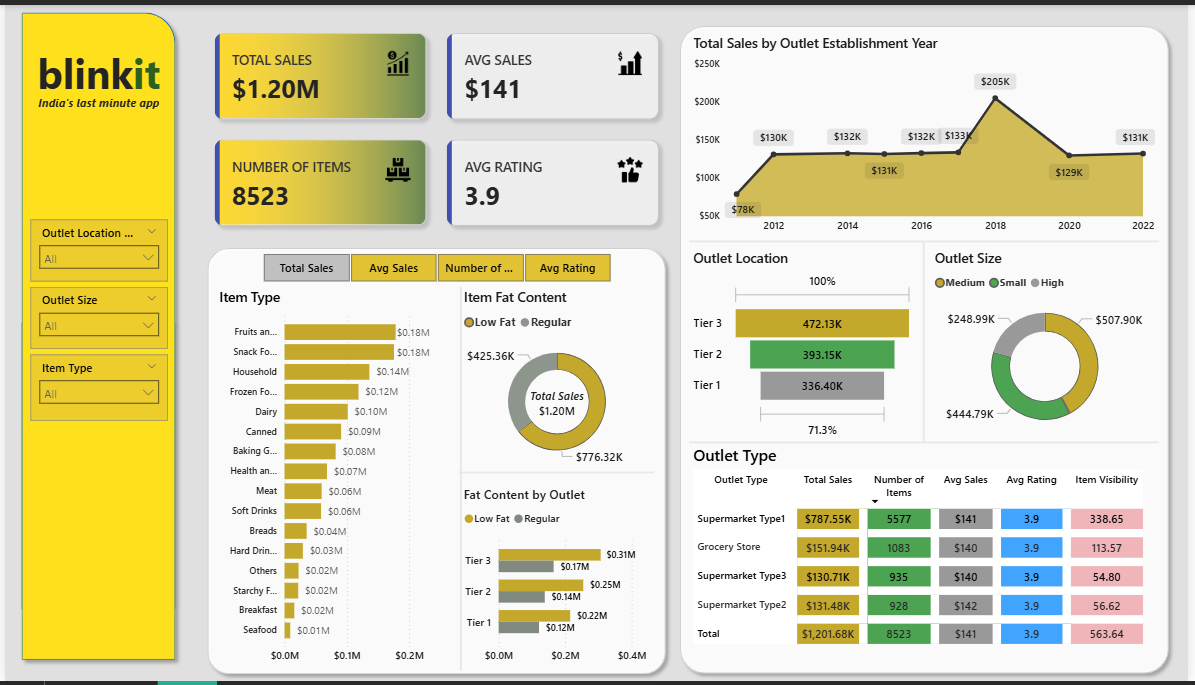

This screenshot's page, from the dashboard's own definition file:
{"tool":"powerbi","page":{"name":"Page 1","canvas":[1400,800],"ordinal":0},"visuals":[{"type":"shape","box":[10.7,0,200,783.9],"z":0},{"type":"textbox","box":[30,42,162,80],"z":1000},{"type":"textbox","box":[30,102,162,34],"z":2000},{"type":"cardVisual","fields":{"Data":["BlinkIT Grocery Data.Total Sales","BlinkIT Grocery Data.Avg Sales","BlinkIT Grocery Data.Number of Items","BlinkIT Grocery Data.Avg Rating"]},"box":[230,16,560,262],"z":3000},{"type":"shape","box":[230,278,560,522],"z":4000},{"type":"donutChart","title":"Item Fat Content","fields":{"Y":["BlinkIT Grocery Data.Total Sales"],"Category":["BlinkIT Grocery Data.Item Fat Content"]},"box":[538,334,230,220],"z":5000},{"type":"slicer","fields":{"Values":["Metrics.Metrics"]},"box":[280,288,460,46],"z":6000},{"type":"cardVisual","fields":{"Data":["BlinkIT Grocery Data.Total Sales"]},"box":[598,430,110,82],"z":7000},{"type":"clusteredBarChart","title":"Fat Content by Outlet","fields":{"Y":["BlinkIT Grocery Data.Total Sales"],"Category":["BlinkIT Grocery Data.Outlet Location Type"],"Series":["BlinkIT Grocery Data.Item Fat Content"]},"box":[538,568,230,220],"z":7001},{"type":"shape","box":[538,528,230,52],"z":7002},{"type":"shape","box":[510,334,60,454],"z":7003},{"type":"barChart","title":"Item Type","fields":{"Category":["BlinkIT Grocery Data.Item Type"],"Y":["BlinkIT Grocery Data.Total Sales"]},"box":[248,334,276,454],"z":7004},{"type":"shape","box":[790,16,596,784],"z":7005},{"type":"lineChart","fields":{"Category":["BlinkIT Grocery Data.Outlet Establishment Year"],"Y":["BlinkIT Grocery Data.Total Sales"]},"box":[810,34,556,245],"z":7006},{"type":"shape","box":[810,254,556,52],"z":7007},{"type":"donutChart","title":"Outlet Size","fields":{"Y":["BlinkIT Grocery Data.Total Sales"],"Category":["BlinkIT Grocery Data.Outlet Size"]},"box":[1096,288,270,230],"z":7008},{"type":"shape","box":[1056,280,62,238],"z":7009},{"type":"funnel","title":"Outlet Location","fields":{"Y":["Sum(BlinkIT Grocery Data.Sales)"],"Category":["BlinkIT Grocery Data.Outlet Location Type"]},"box":[810,288,270,230],"z":7010},{"type":"shape","box":[810,492,556,52],"z":7011},{"type":"pivotTable","title":"Outlet Type","fields":{"Rows":["BlinkIT Grocery Data.Outlet Type"],"Values":["BlinkIT Grocery Data.Total Sales","BlinkIT Grocery Data.Number of Items","BlinkIT Grocery Data.Avg Sales","BlinkIT Grocery Data.Avg Rating","Sum(BlinkIT Grocery Data.Item Visibility)"]},"box":[810,520,556,252],"z":7012},{"type":"slicer","fields":{"Values":["BlinkIT Grocery Data.Outlet Location Type"]},"box":[30.4,253.6,162.5,73.2],"z":7013},{"type":"slicer","fields":{"Values":["BlinkIT Grocery Data.Outlet Size"]},"box":[30.4,333.9,162.5,73.2],"z":7014},{"type":"slicer","fields":{"Values":["BlinkIT Grocery Data.Item Type"]},"box":[30.4,414.3,162.5,78.6],"z":7015}]}

Visuals, with their boxes in screenshot pixels (x1, y1, x2, y2), scaled from the page's 1400x800 canvas onto the 1195x685 screenshot:
shape: (9,0,180,671)
textbox: (26,36,164,104)
textbox: (26,87,164,116)
cardVisual - BlinkIT Grocery Data.Total Sales x BlinkIT Grocery Data.Avg Sales: (196,14,674,238)
shape: (196,238,674,684)
"Item Fat Content" donutChart: (459,286,656,474)
slicer - Metrics.Metrics: (239,247,632,286)
cardVisual - BlinkIT Grocery Data.Total Sales: (510,368,604,438)
"Fat Content by Outlet" clusteredBarChart: (459,486,656,675)
shape: (459,452,656,497)
shape: (435,286,487,675)
"Item Type" barChart: (212,286,447,675)
shape: (674,14,1183,684)
lineChart - BlinkIT Grocery Data.Outlet Establishment Year x BlinkIT Grocery Data.Total Sales: (691,29,1166,239)
shape: (691,217,1166,262)
"Outlet Size" donutChart: (936,247,1166,444)
shape: (901,240,954,444)
"Outlet Location" funnel: (691,247,922,444)
shape: (691,421,1166,466)
"Outlet Type" pivotTable: (691,445,1166,661)
slicer - BlinkIT Grocery Data.Outlet Location Type: (26,217,165,280)
slicer - BlinkIT Grocery Data.Outlet Size: (26,286,165,349)
slicer - BlinkIT Grocery Data.Item Type: (26,355,165,422)
